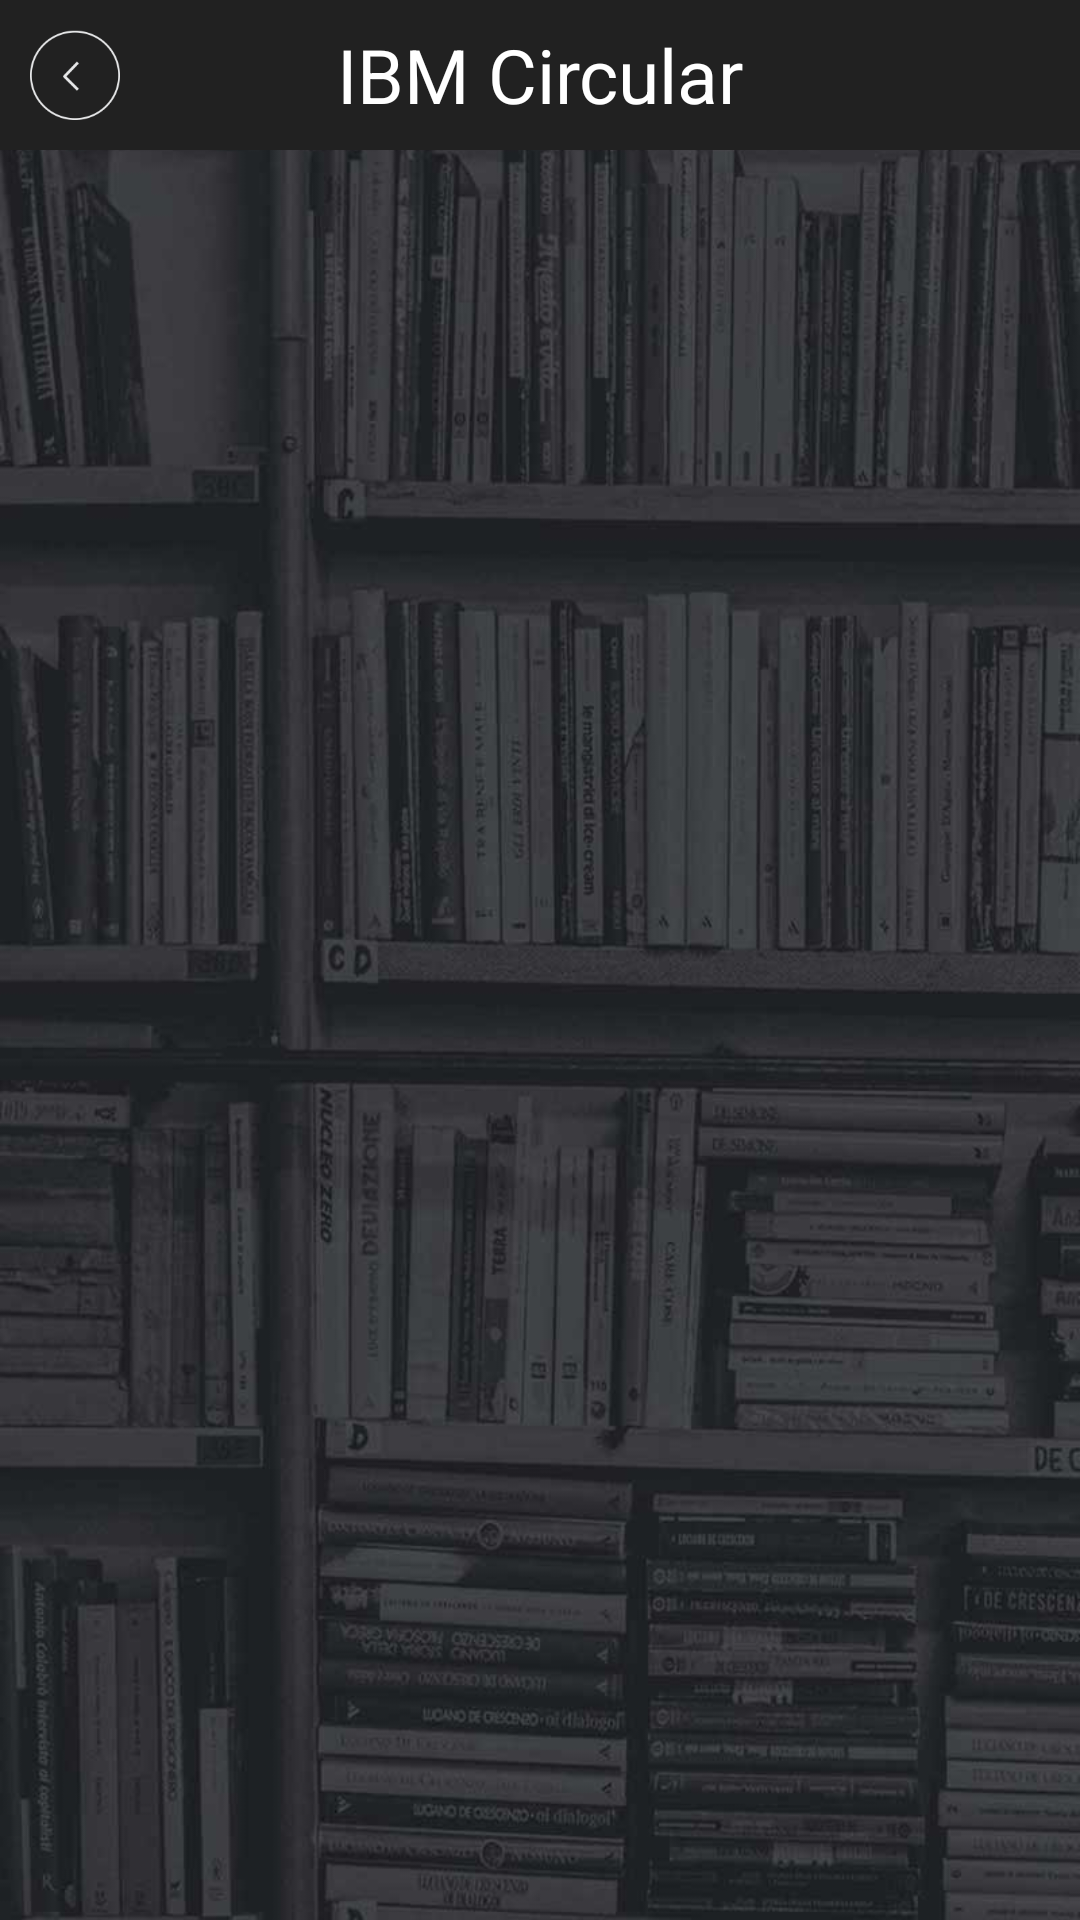

Named icons in this screenshot (1080x1920) and their centers, (x,y):
back: (75,75)
